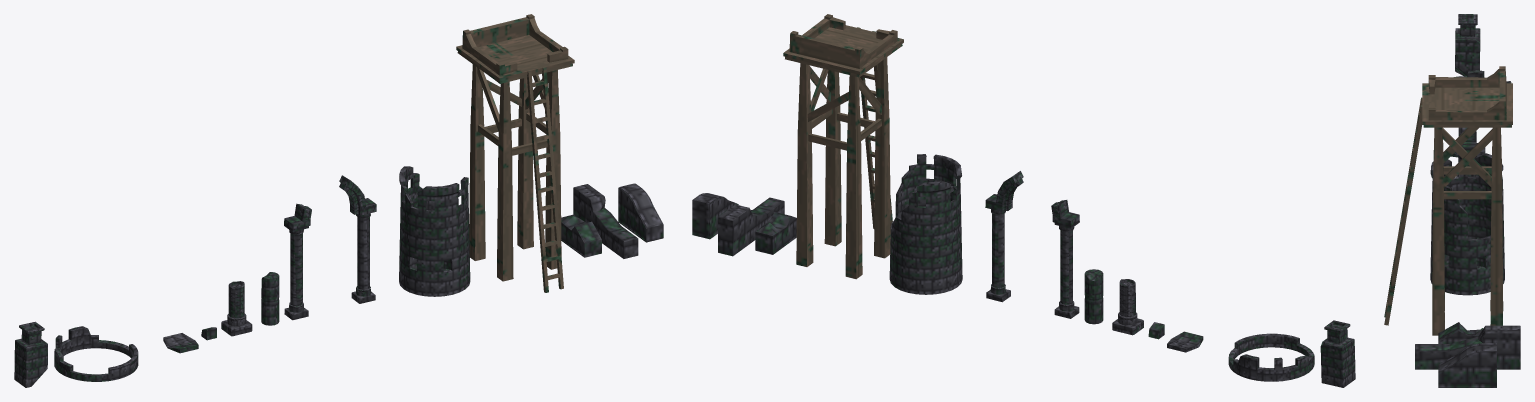
File: Outpost.fbx
3 views of the same model, side by side, from view 1: azimuth 30°, elevation 25°; view 2: azimuth 150°, elevation 25°; view 3: azimuth 270°, elevation 25° (orthographic). The views are drawn at different scales.
Parts seen in each view (by area): view 1: Watchtower, RuinedTowerA, Arch, RuinedTowerB, BrokenWallA, BrokenWallC, StonePost, BrokenWallB, ColumnA, ColumnB; view 2: Watchtower, RuinedTowerA, Arch, RuinedTowerB, BrokenWallA, StonePost, BrokenWallC, BrokenWallB, ColumnA, ColumnB; view 3: Watchtower, RuinedTowerA, BrokenWallA, BrokenWallC, StonePost, BrokenWallB, Arch, RuinedTowerB.
Part boxes in pixels (box(x1,y1,x2,y2)): Watchtower: box(456, 14, 574, 292); RuinedTowerA: box(399, 166, 470, 296); Arch: box(284, 175, 376, 320); RuinedTowerB: box(54, 326, 138, 381); BrokenWallA: box(573, 184, 638, 258); BrokenWallC: box(618, 183, 663, 242); StonePost: box(14, 321, 47, 387); BrokenWallB: box(561, 214, 601, 257); ColumnA: box(221, 281, 252, 336); ColumnB: box(261, 272, 279, 325); Watchtower: box(783, 14, 903, 279); RuinedTowerA: box(889, 154, 962, 294); Arch: box(985, 171, 1079, 318); RuinedTowerB: box(1228, 333, 1314, 381); BrokenWallA: box(718, 197, 784, 256); StonePost: box(1320, 320, 1355, 387); BrokenWallC: box(692, 193, 738, 239); BrokenWallB: box(755, 212, 796, 254); ColumnA: box(1112, 279, 1143, 335); ColumnB: box(1084, 269, 1103, 324); Watchtower: box(1384, 66, 1512, 335); RuinedTowerA: box(1430, 153, 1504, 295); BrokenWallA: box(1415, 325, 1520, 369); BrokenWallC: box(1438, 343, 1496, 387); StonePost: box(1455, 14, 1480, 76); BrokenWallB: box(1438, 322, 1483, 343); Arch: box(1458, 127, 1476, 176); RuinedTowerB: box(1454, 70, 1511, 83).
Size of the model in its own units: 38.33 by 13.25 by 6.85.
